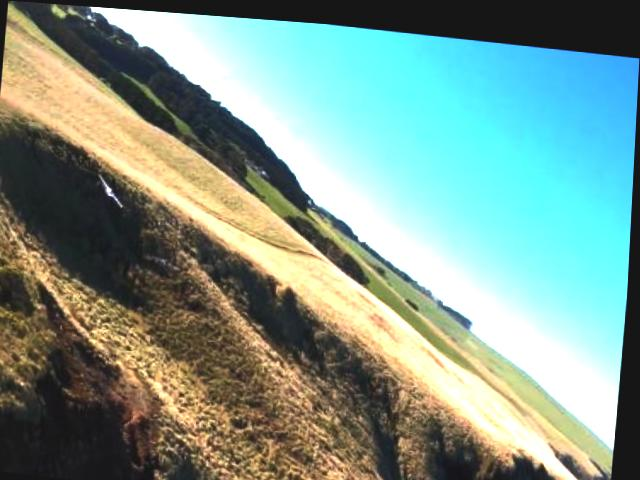uav: (97, 170, 129, 208)
